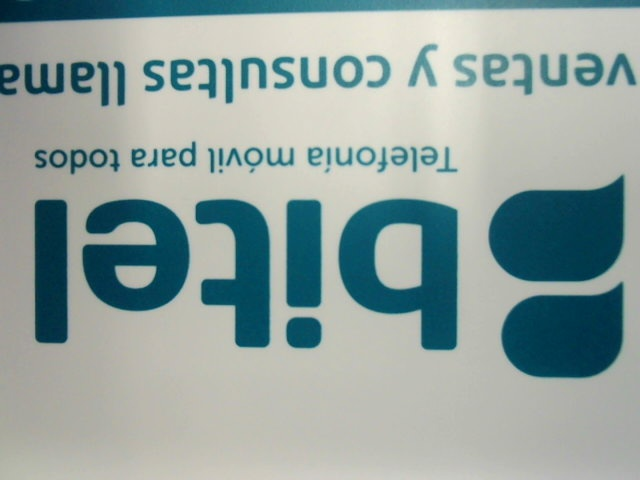BE_bitel: (11, 175, 629, 380)
